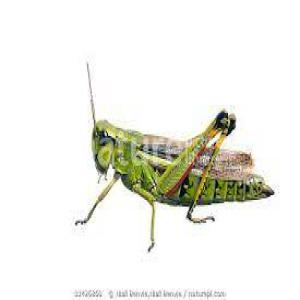locust: (77, 85, 300, 273)
